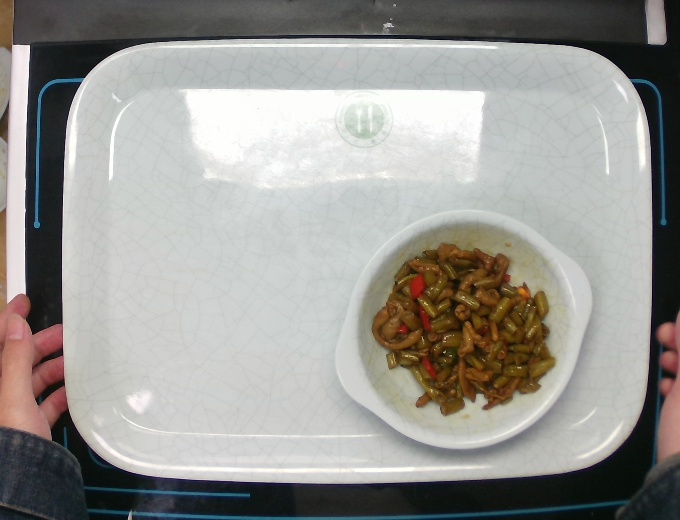JYsf-Shuang_Er_Wan: (334, 210, 589, 452)
